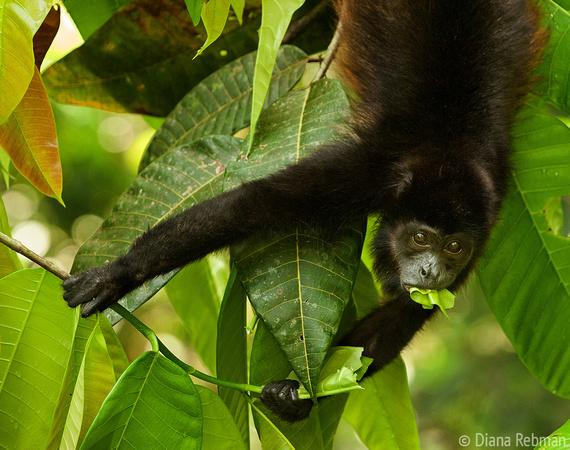monkey: (64, 0, 535, 378)
